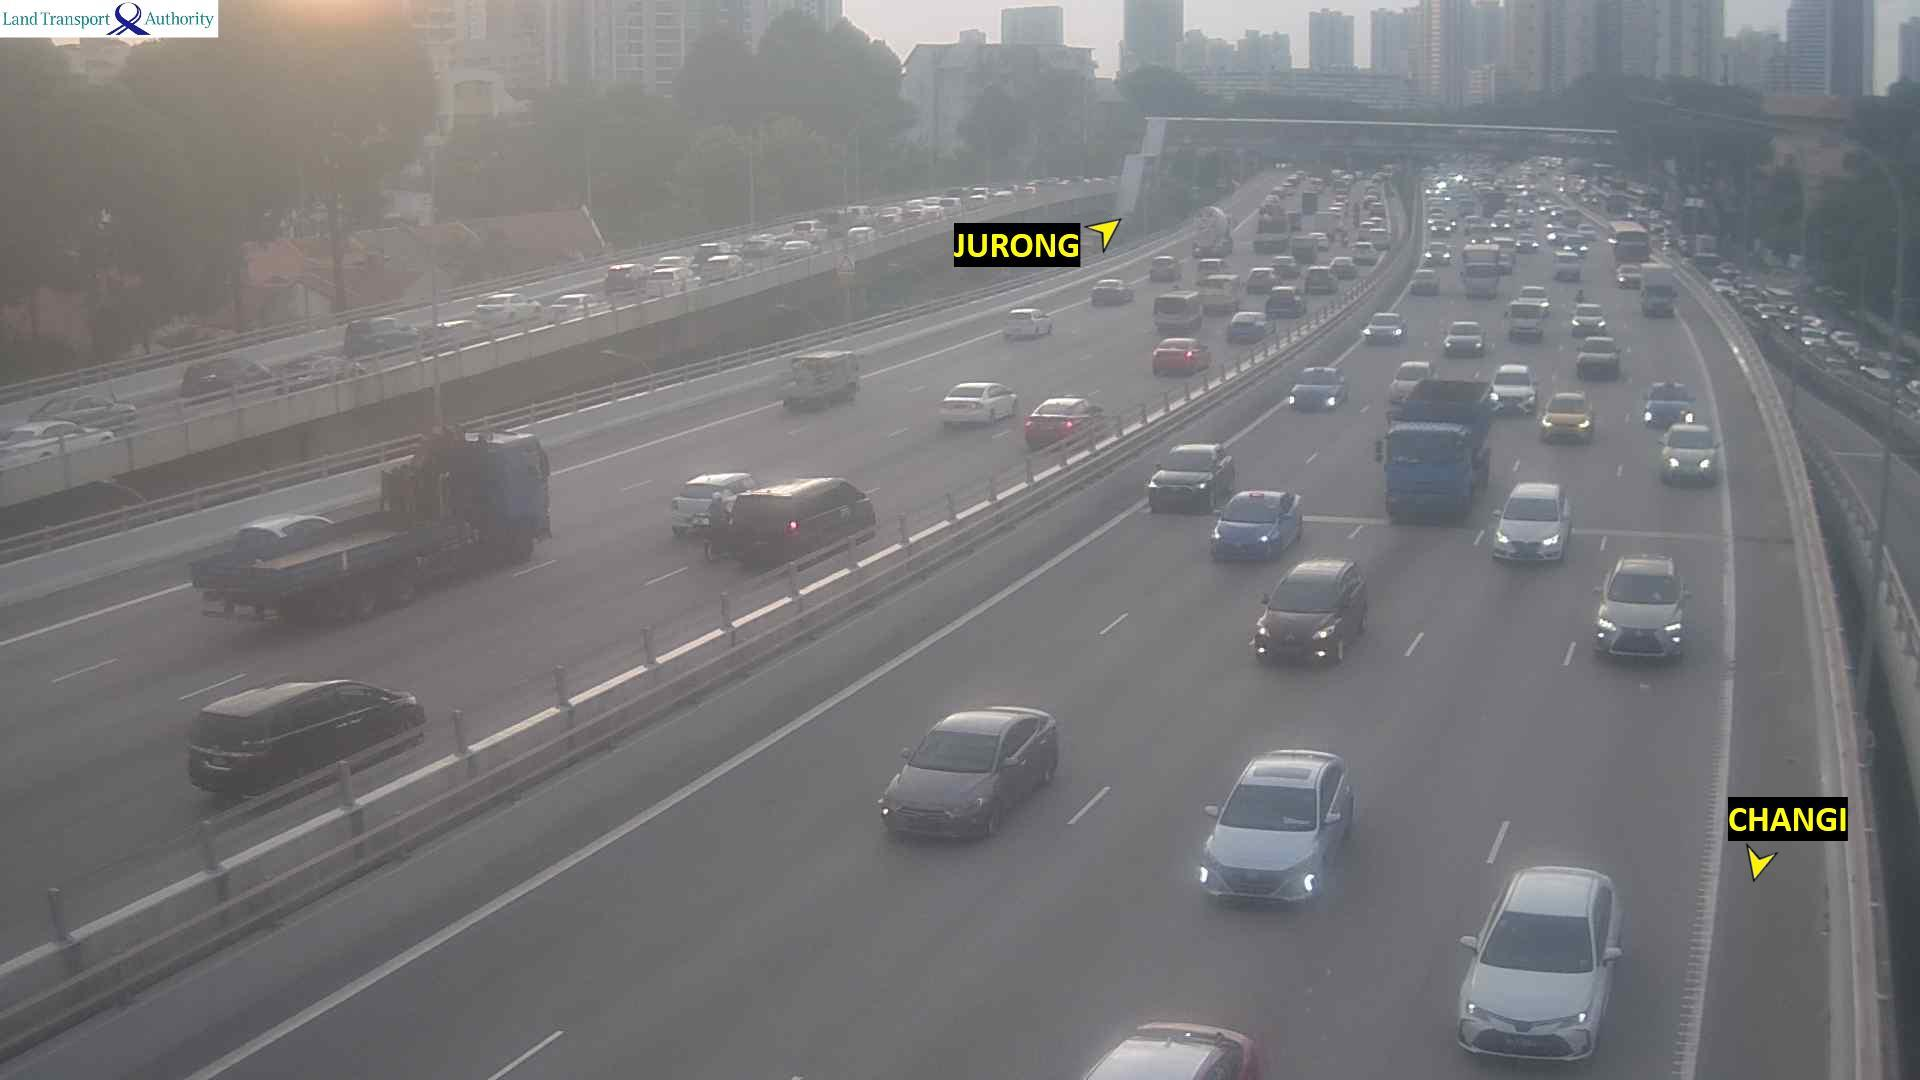incoming: (1460, 914, 1620, 1057), (1204, 786, 1339, 907), (886, 729, 1020, 837), (1377, 423, 1476, 521), (1596, 575, 1690, 663), (1260, 574, 1346, 666), (1493, 499, 1571, 566), (1218, 499, 1292, 564), (1152, 449, 1220, 513), (1660, 431, 1725, 483), (1540, 398, 1597, 443), (1489, 373, 1540, 416), (1645, 388, 1698, 427), (1288, 373, 1339, 411), (1576, 341, 1622, 380), (1505, 303, 1545, 342), (1445, 325, 1485, 354), (1364, 315, 1405, 342), (1571, 306, 1607, 333)
